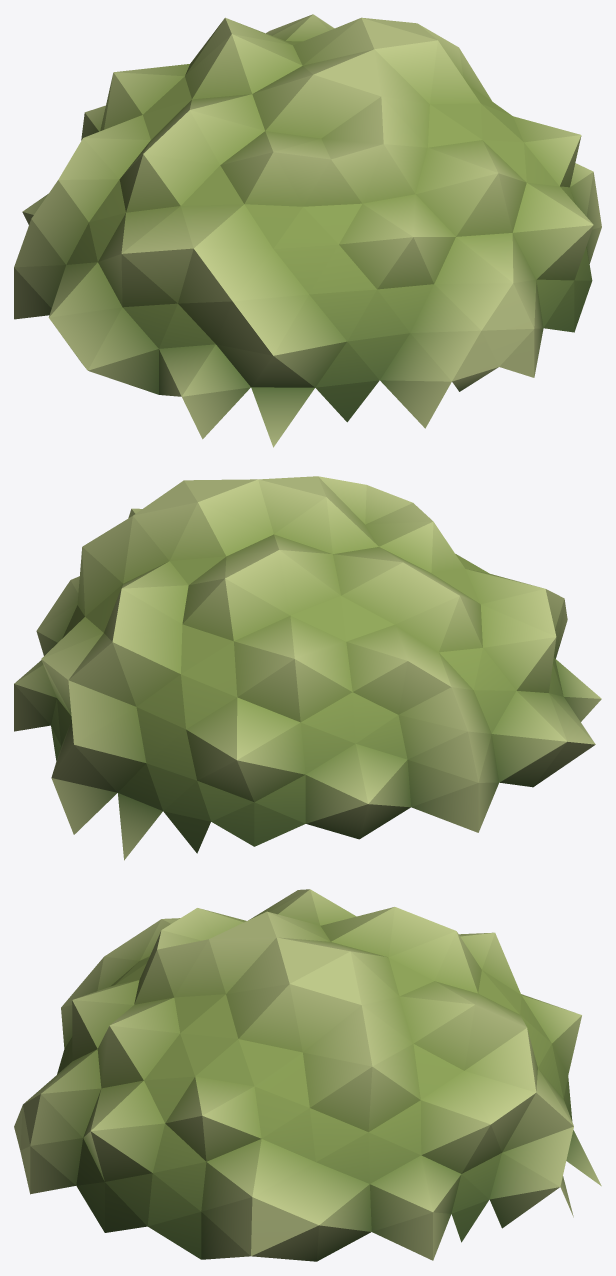
Rendered from coral-starmound.glb.
3 views of the same model, one above another, from view 1: azimuth 30°, elevation 25°; view 2: azimuth 150°, elevation 25°; view 3: azimuth 270°, elevation 25° (orthographic). The views are drawn at different scales.
Parts seen in each view (by area): view 1: coral-starmound_mesh; view 2: coral-starmound_mesh; view 3: coral-starmound_mesh.
Boxes of the visible parts, x1=… form: coral-starmound_mesh: x1=14, y1=14, x2=601, y2=447; coral-starmound_mesh: x1=14, y1=476, x2=601, y2=860; coral-starmound_mesh: x1=14, y1=889, x2=601, y2=1261.
Size of the model in its own units: 3.99 by 1.9 by 3.86.
